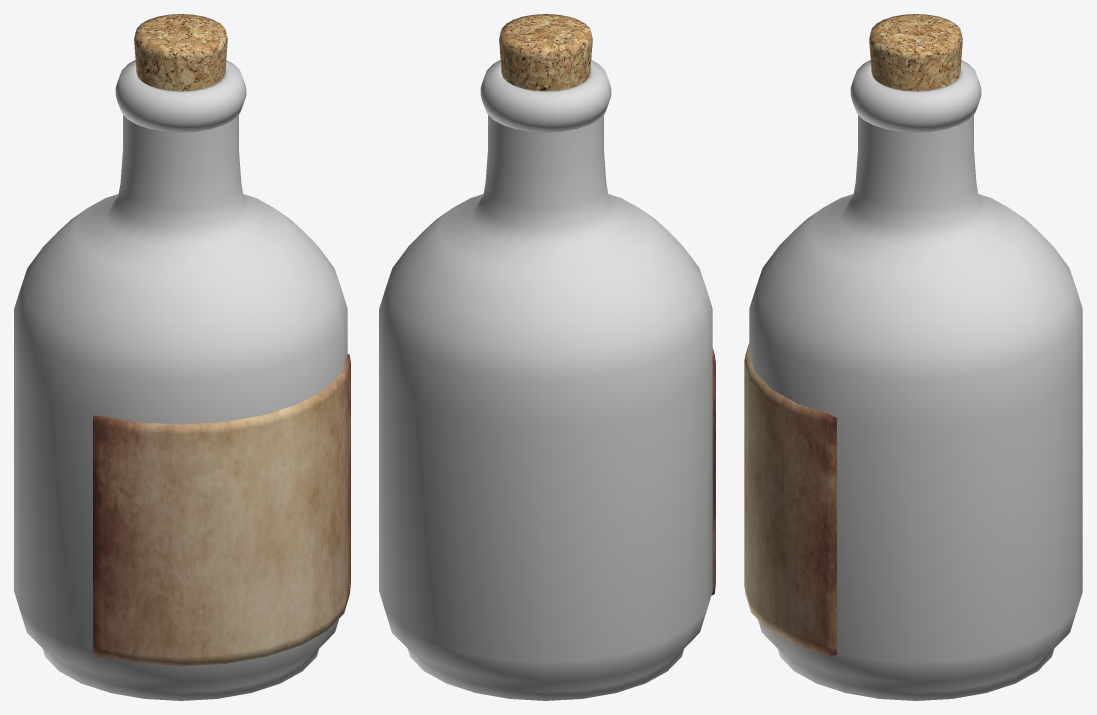
The model's file is Bottle1.fbx.
3 renders of one model, left to right at view 1: azimuth 30°, elevation 25°; view 2: azimuth 150°, elevation 25°; view 3: azimuth 270°, elevation 25°, orthographic.
Visible parts, largest first — view 1: Bottle_LOD0, Cork; view 2: Bottle_LOD0, Cork; view 3: Bottle_LOD0, Cork.
Boxes of the visible parts, x1,y1,x2,y2 form: Bottle_LOD0: (14, 60, 350, 700); Cork: (134, 14, 227, 91); Bottle_LOD0: (379, 60, 715, 700); Cork: (499, 14, 592, 91); Bottle_LOD0: (744, 60, 1082, 700); Cork: (869, 14, 962, 91).
Size of what is drawn, in the model's own units: 24.27 by 48.99 by 24.63.
